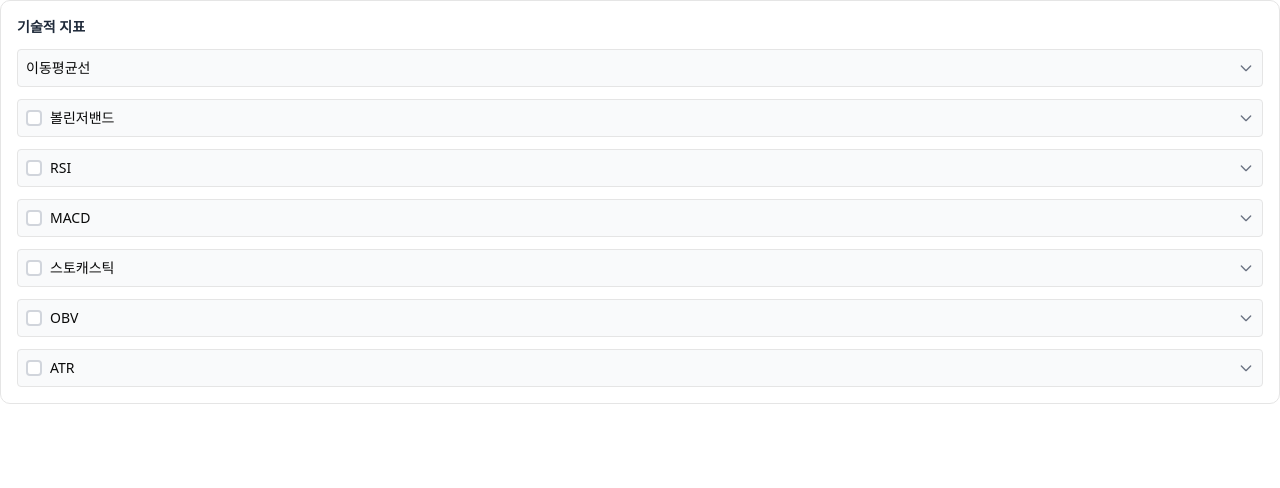
Test: IndicatorPanel › should show MACD settings with three period inputs
Click the button with test id "expand-macd". click: (1246, 218)
box: [1238,210,1254,226]
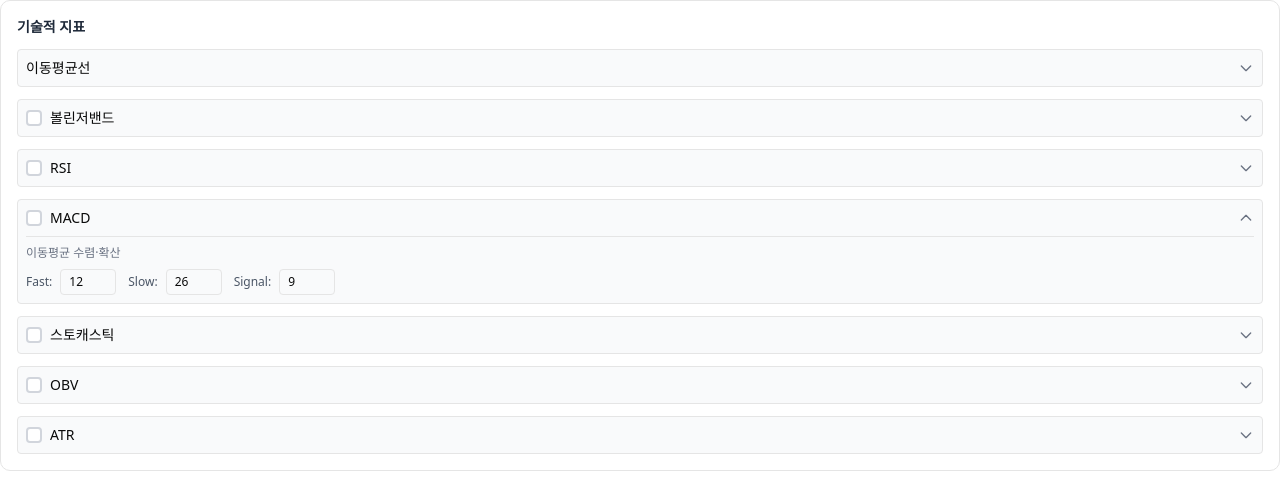
Expected: the text "Fast:" is shown, [26,274,52,290]
Expected: the text "Slow:" is shown, [128,274,158,290]
Expected: the text "Signal:" is shown, [234,274,271,290]
